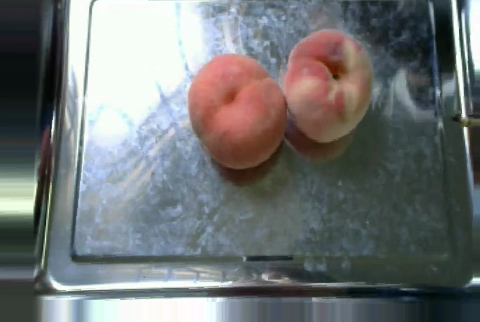Peach: (188, 51, 285, 169), (280, 30, 375, 143)
